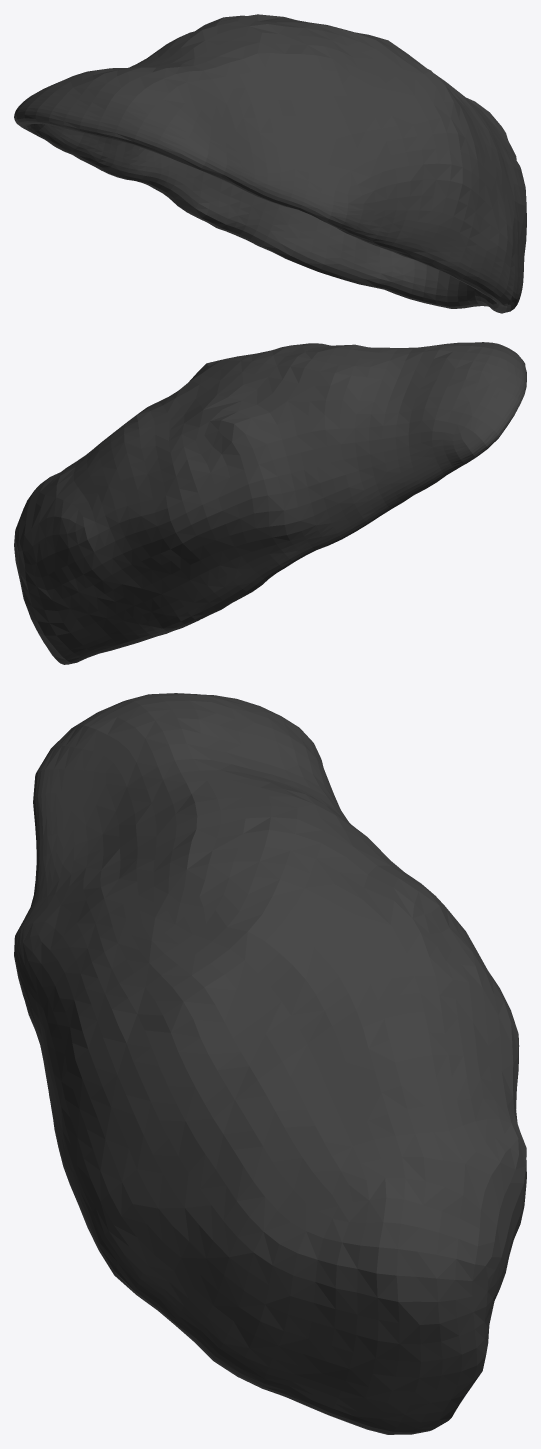
Rendered from FOSSA_stapedius_muscle_L.glb.
The picture shows the model from 3 angles, top to bottom: view 1: azimuth 30°, elevation 25°; view 2: azimuth 150°, elevation 25°; view 3: azimuth 270°, elevation 25°; orthographic projection. The views are drawn at different scales.
Parts seen in each view (by area): view 1: FOSSA_stapedius_muscle_L; view 2: FOSSA_stapedius_muscle_L; view 3: FOSSA_stapedius_muscle_L.
Boxes of the visible parts, x1,y1,x2,y2 form: FOSSA_stapedius_muscle_L: [14, 14, 526, 313]; FOSSA_stapedius_muscle_L: [14, 342, 526, 664]; FOSSA_stapedius_muscle_L: [14, 693, 526, 1434].
Bounding box in the file's own units: 1.16 × 0.8215 × 0.7834.
Materials: 1 (1 with a texture image).
